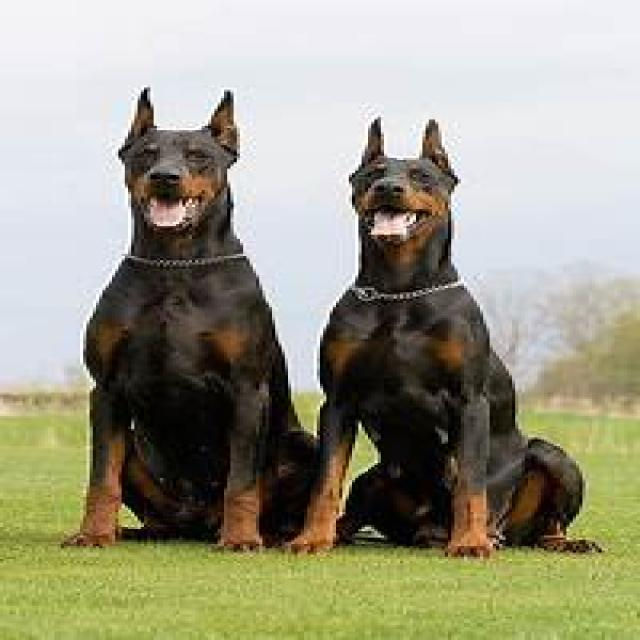dog: (291, 120, 598, 556), (64, 90, 313, 549)
